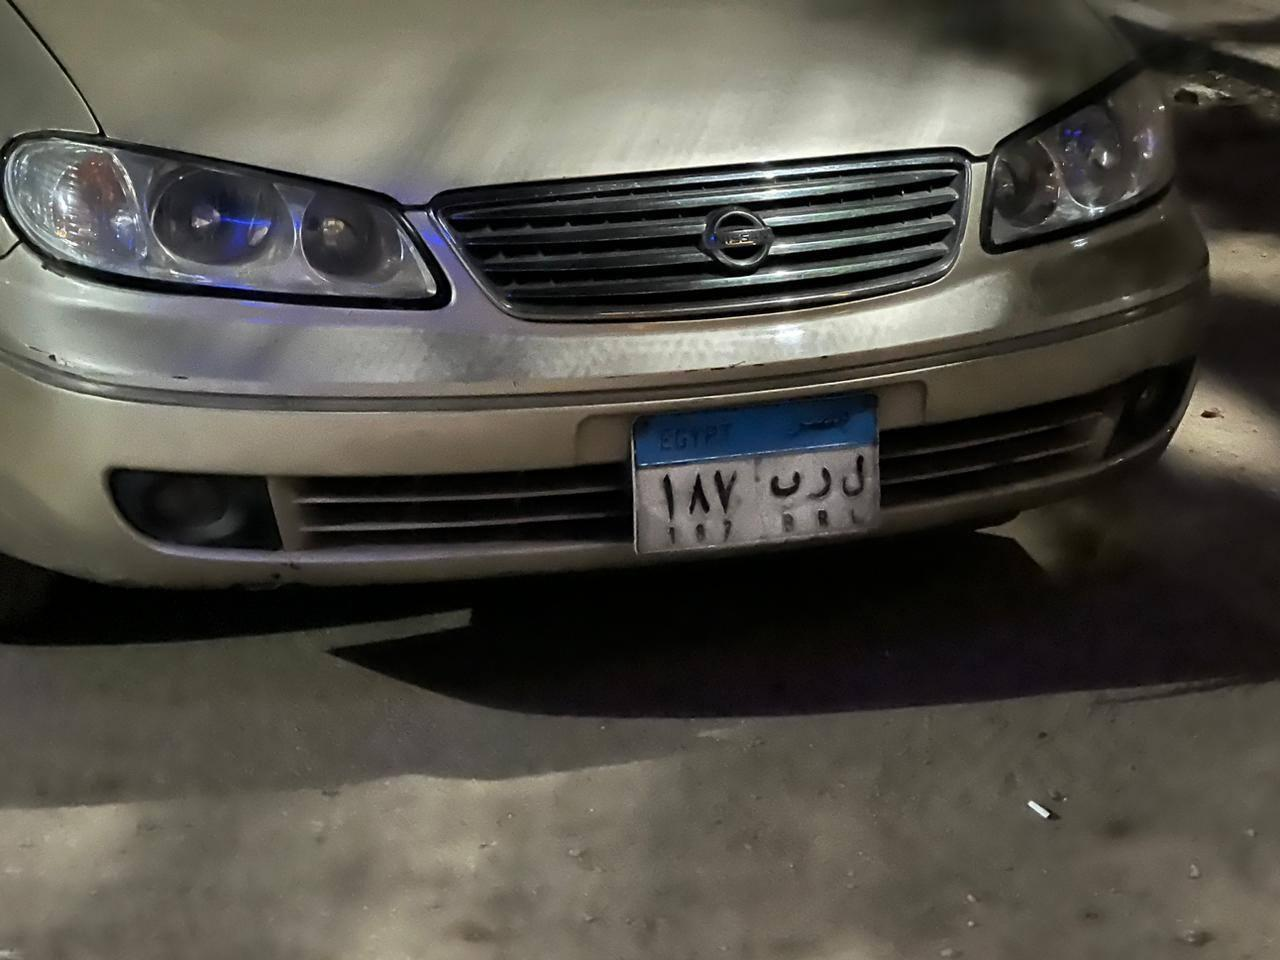1: (648, 466, 686, 531)
7: (706, 455, 746, 520)
8: (684, 458, 710, 520)
Laam: (833, 444, 880, 508)
License Plate: (625, 382, 882, 564)
R: (800, 461, 836, 507)
baa: (765, 464, 806, 513)
